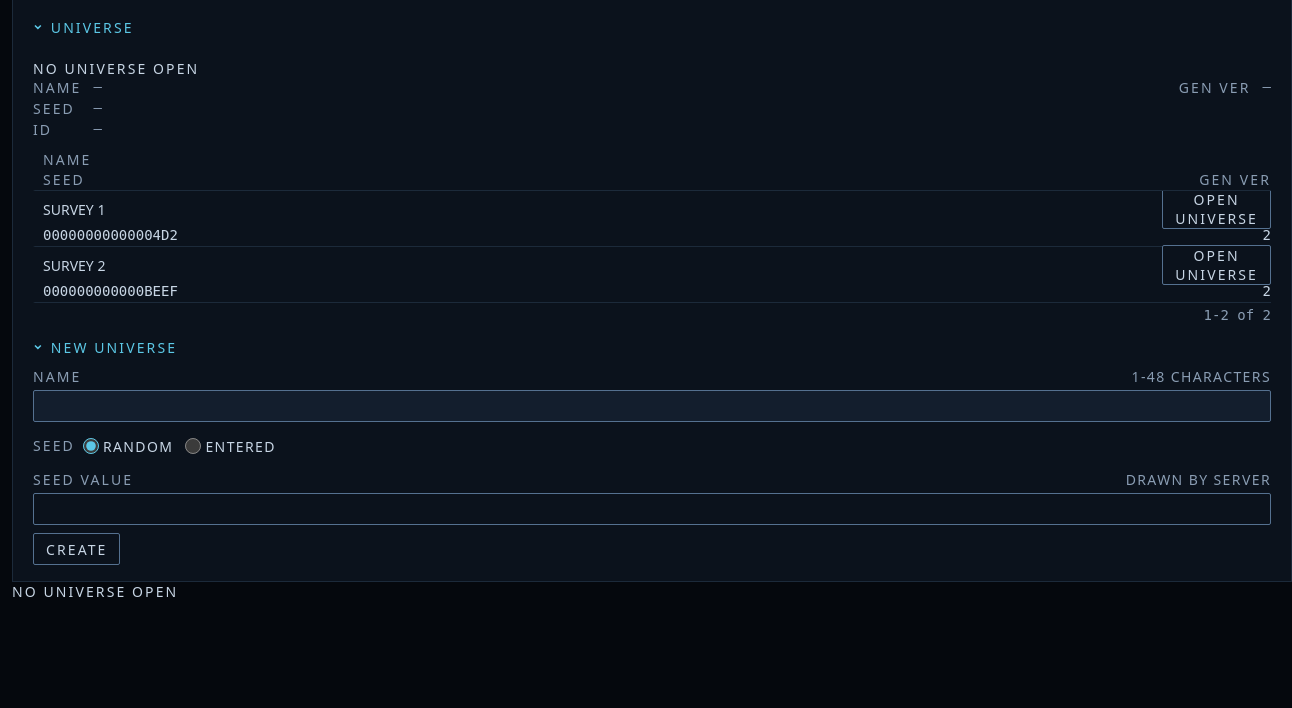
Test: ParametersPanel › reads each parameter with its value, unit and origin
Step 1. Click the button with aria-label "Open universe SURVEY 1" → (1217, 209), box [1162,189,1271,229]
(page scrolled)
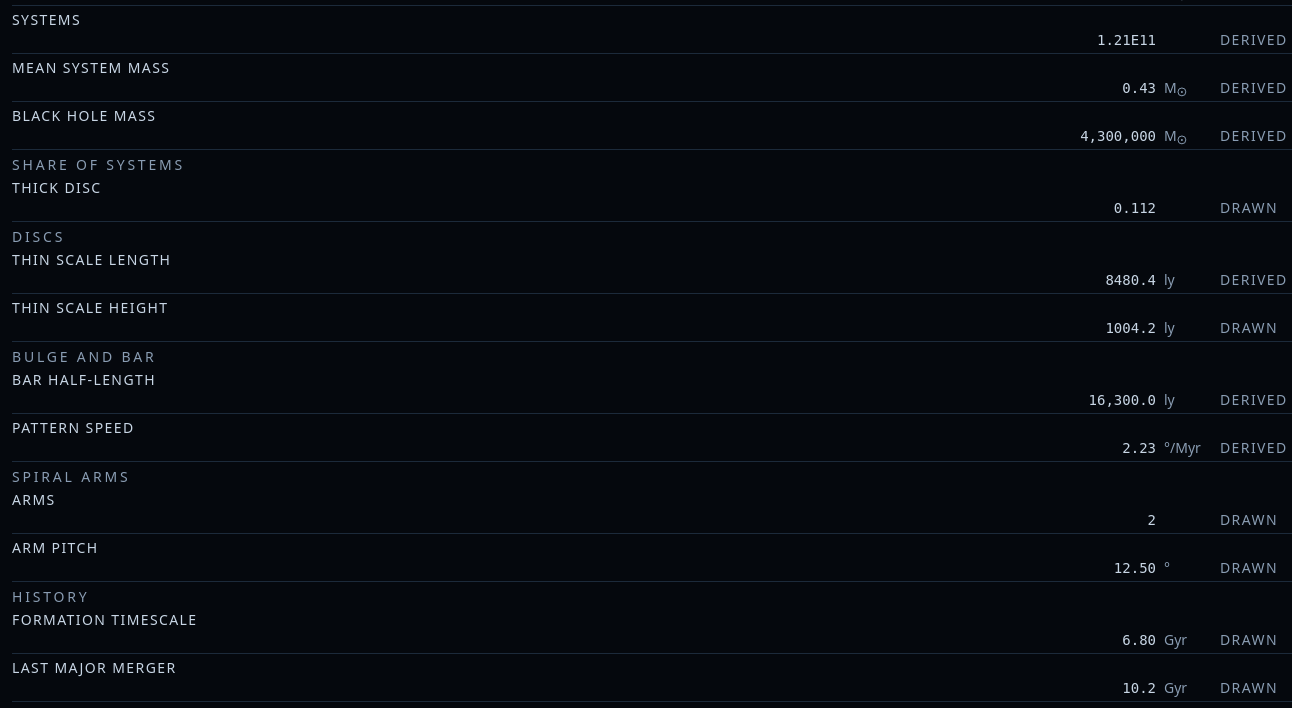
Expected: the heading "BULGE AND BAR" is shown, [12,347,157,366]
